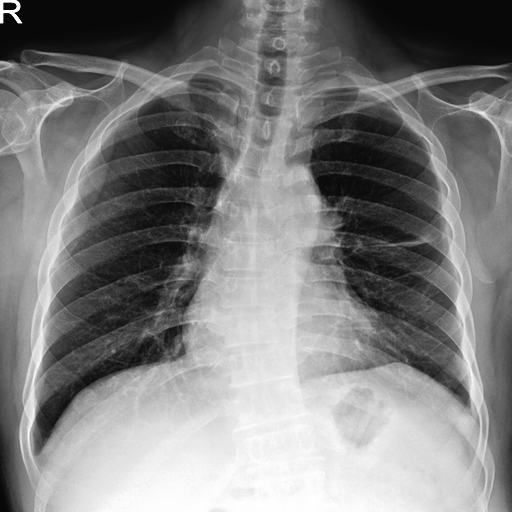Calcification: (349, 223, 454, 254)
Infiltration: (354, 218, 444, 258)
Pneumothorax: (366, 264, 451, 313)
